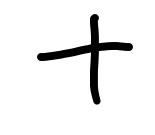plus: (38, 14, 132, 104)
